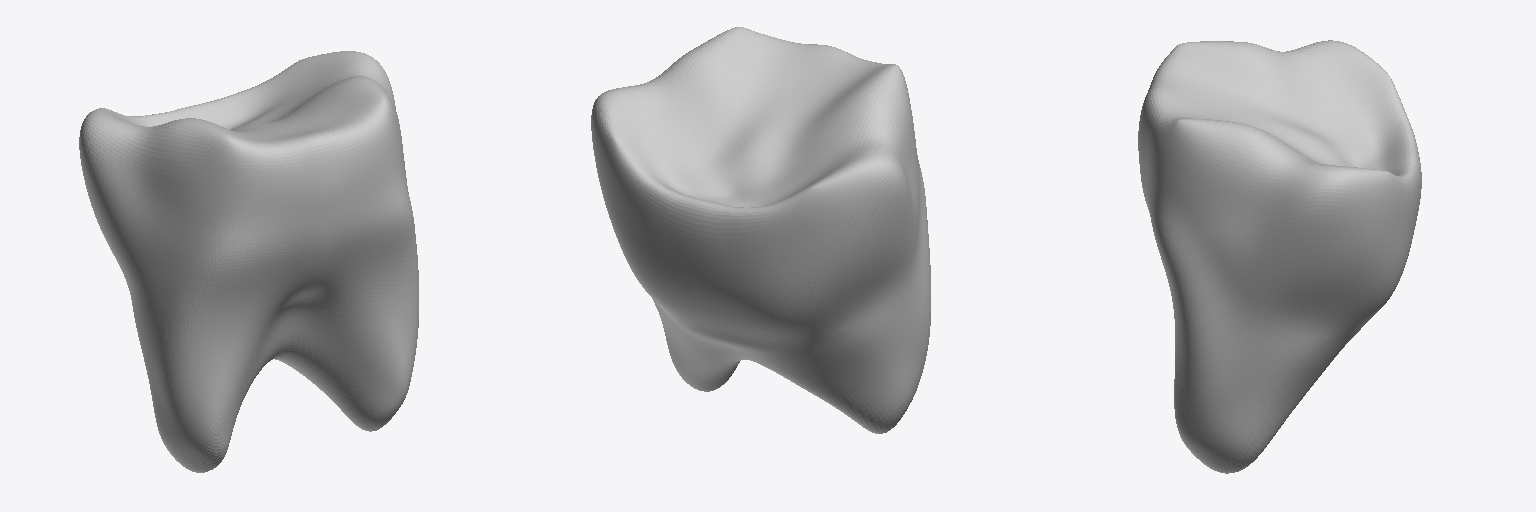
Rendered from tooth2.OBJ.
3 views of the same model, side by side, from view 1: azimuth 30°, elevation 25°; view 2: azimuth 150°, elevation 25°; view 3: azimuth 270°, elevation 25° (orthographic).
Visible parts, largest first — view 1: ZBrush_defualt_group; view 2: ZBrush_defualt_group; view 3: ZBrush_defualt_group.
Part boxes in pixels (x1,y1,x2,y2): ZBrush_defualt_group: (79,51,418,472); ZBrush_defualt_group: (591,27,930,433); ZBrush_defualt_group: (1138,40,1421,473).
Size of the model in its own units: 0.3102 by 0.3431 by 0.2528.